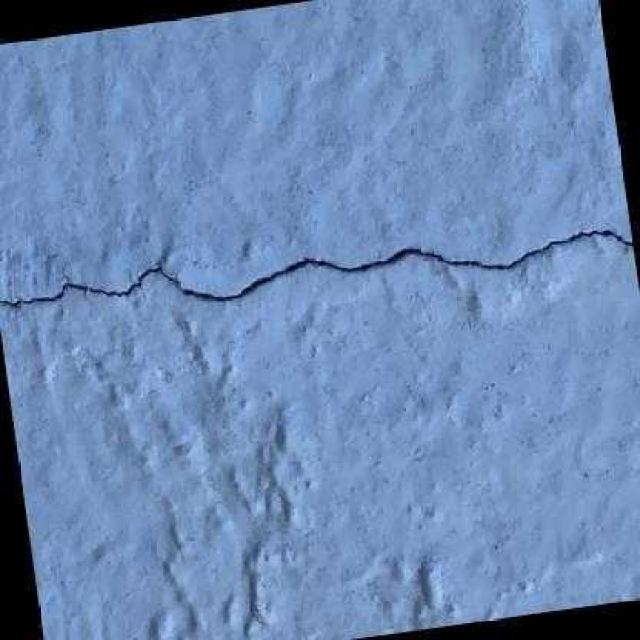D00: (0, 219, 634, 311)
